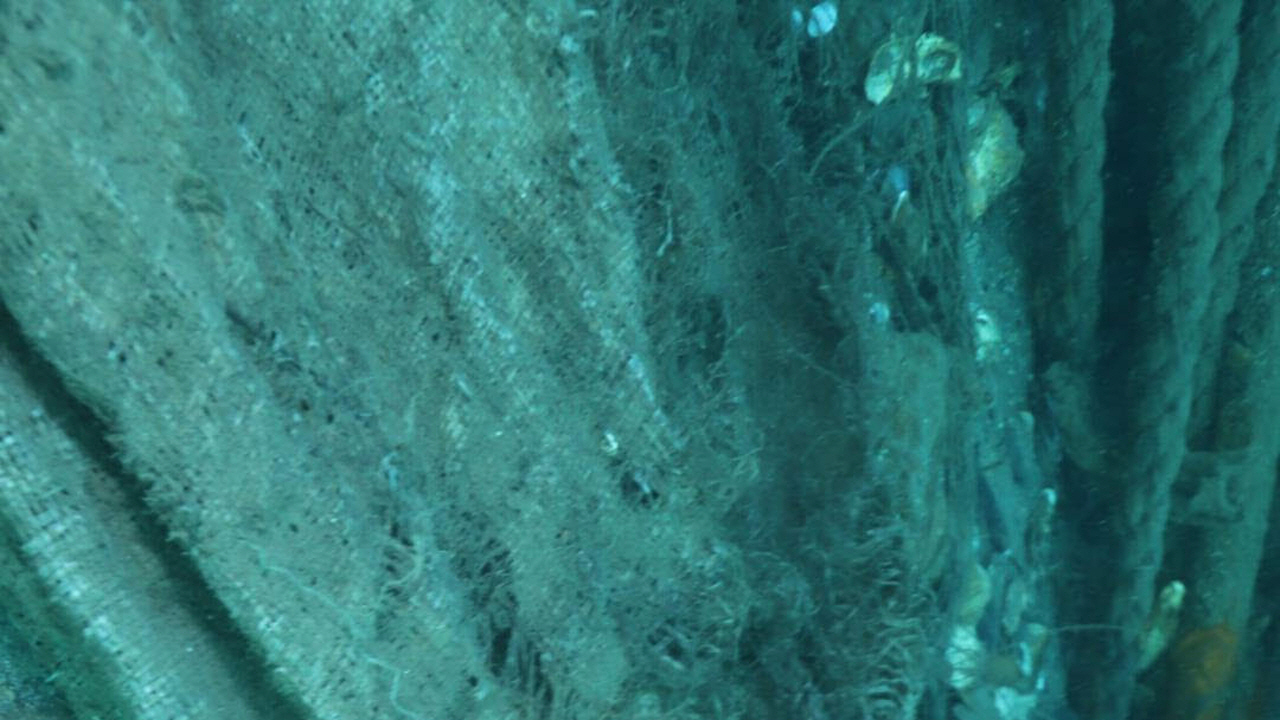bundle of ropes: (1033, 0, 1280, 720)
